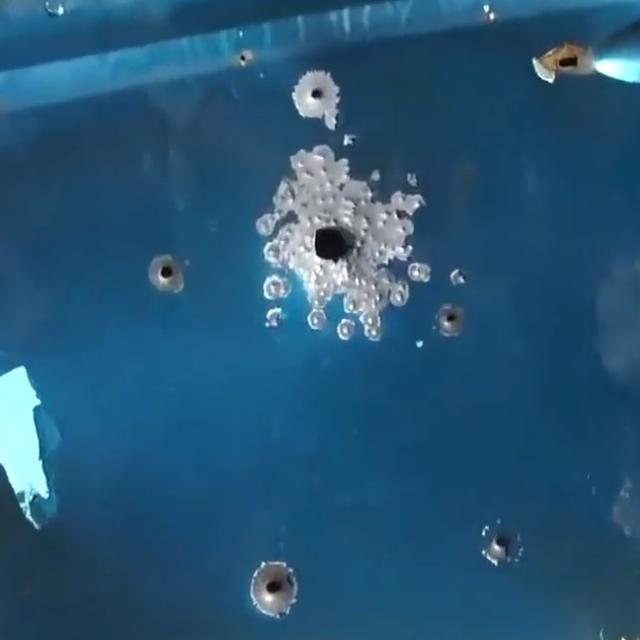bullets: (256, 146, 409, 340), (250, 559, 302, 617), (292, 66, 342, 118), (475, 518, 525, 568), (540, 42, 596, 77), (144, 251, 188, 292), (432, 301, 470, 341)
